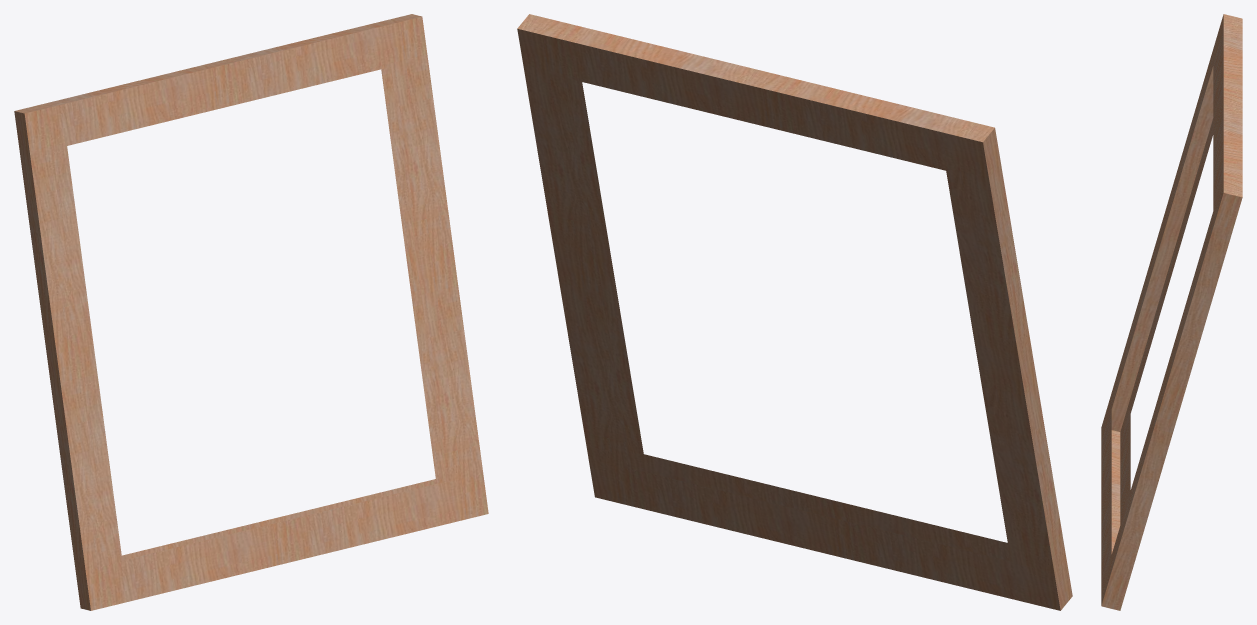
Rendered from original-2.obj.
3 views of the same model, side by side, from view 1: azimuth 30°, elevation 25°; view 2: azimuth 150°, elevation 25°; view 3: azimuth 270°, elevation 25° (orthographic). The views are drawn at different scales.
Visible parts, largest first — view 1: #ID18; view 2: #ID18; view 3: #ID18.
Boxes of the visible parts, <box> form: #ID18: <box>14,14,488,610</box>; #ID18: <box>517,14,1072,610</box>; #ID18: <box>1101,14,1242,610</box>.
Bounding box in the file's own units: 0.6164 × 0.672 × 0.2058.
